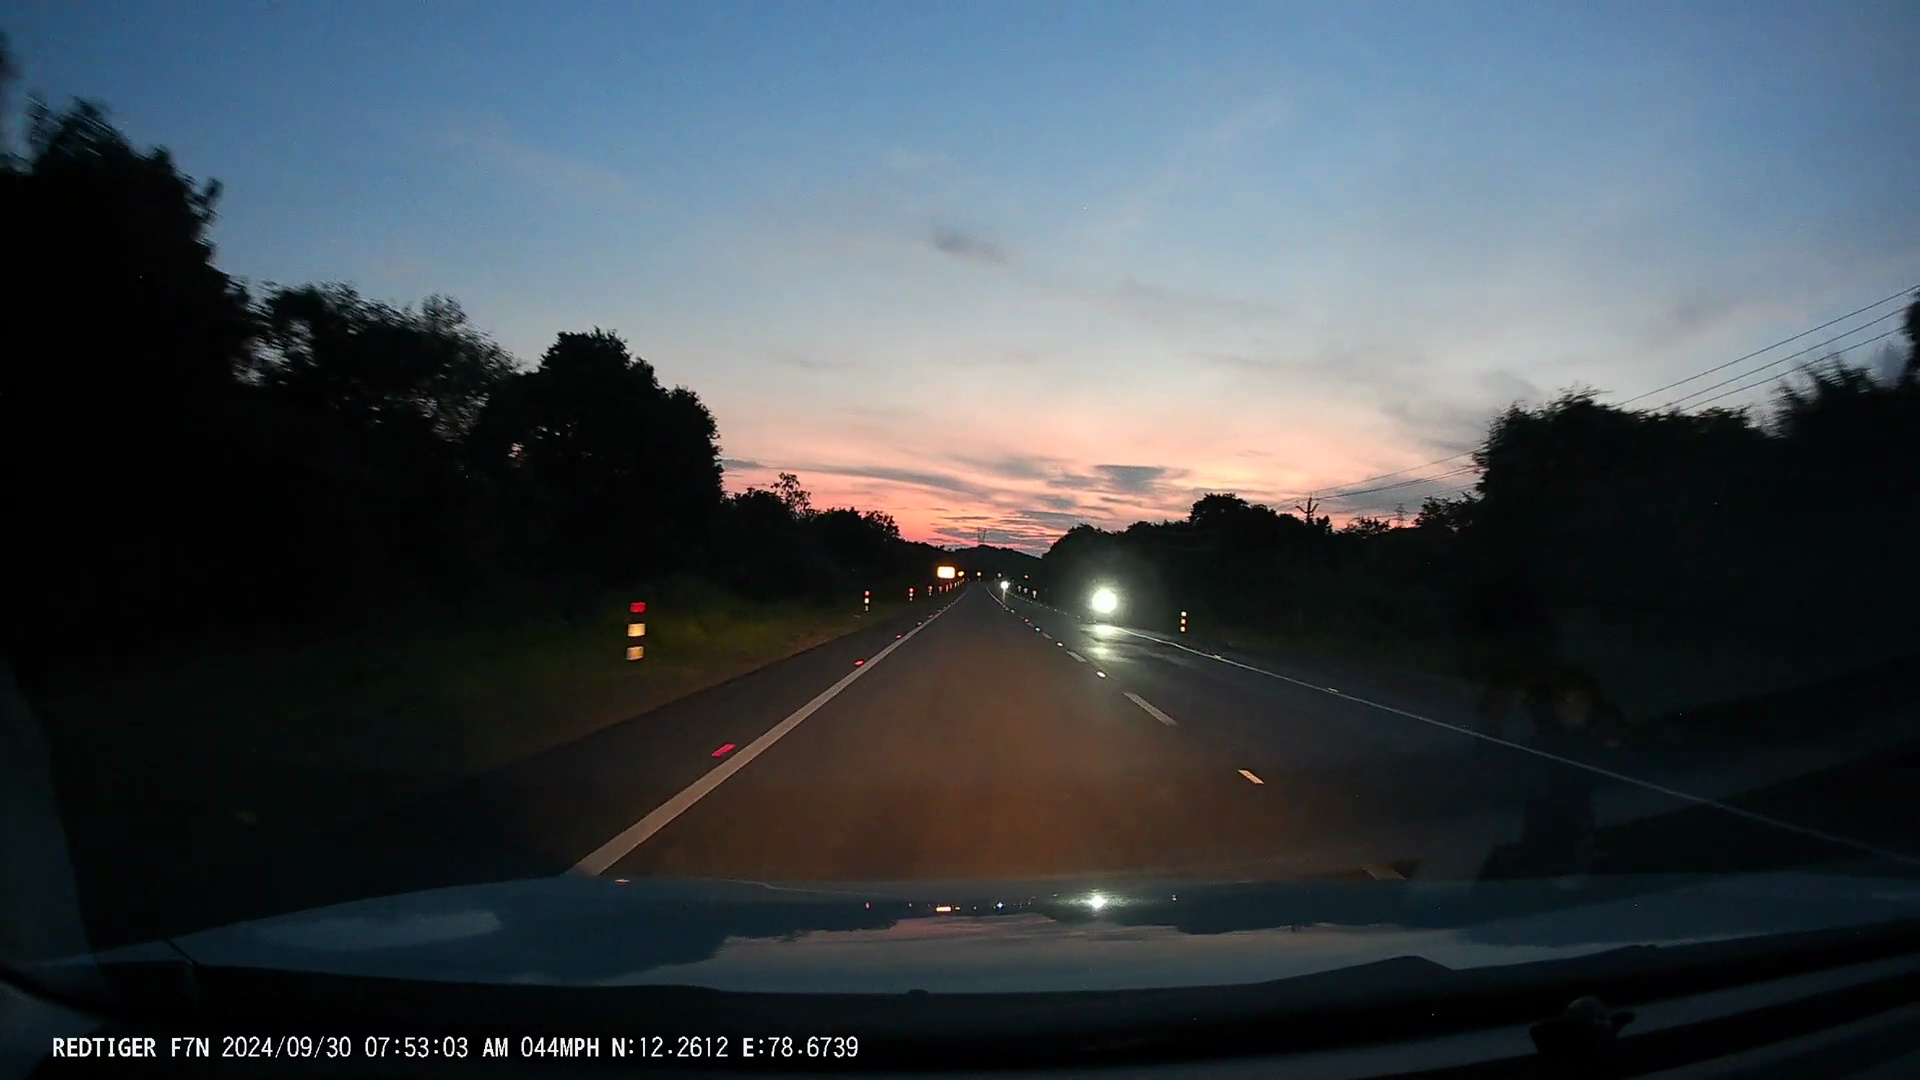headlight: (1092, 589, 1120, 613), (1000, 580, 1009, 589)
two wheeler: (1092, 578, 1117, 625), (996, 575, 1011, 596)
